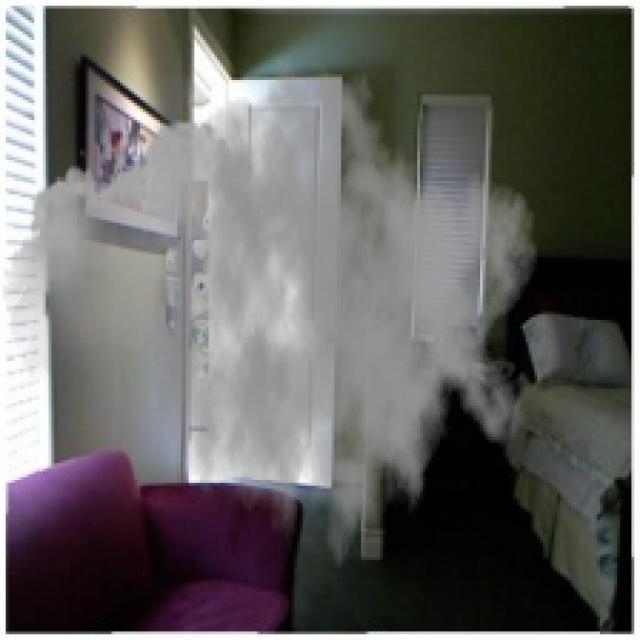Smoke: (3, 51, 540, 594)
